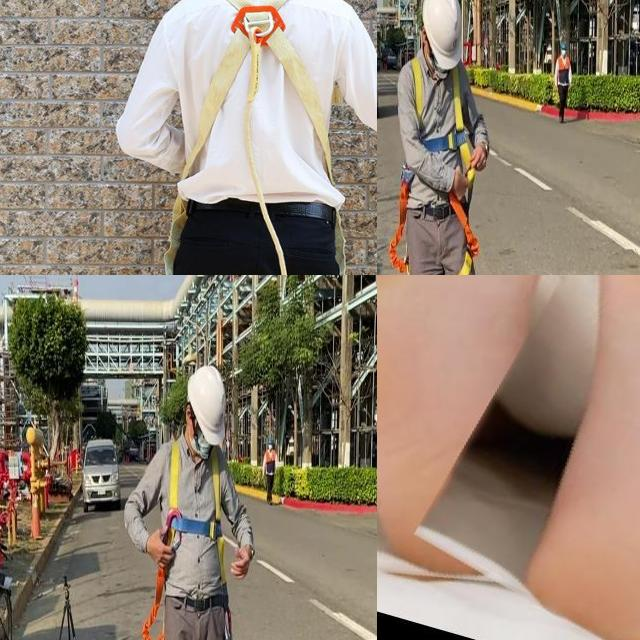Barefoots: (377, 275, 640, 619), (427, 275, 640, 640)
Harness: (160, 0, 325, 275), (165, 440, 225, 586), (423, 67, 472, 170), (450, 192, 480, 275), (389, 172, 410, 275), (142, 566, 169, 640)
